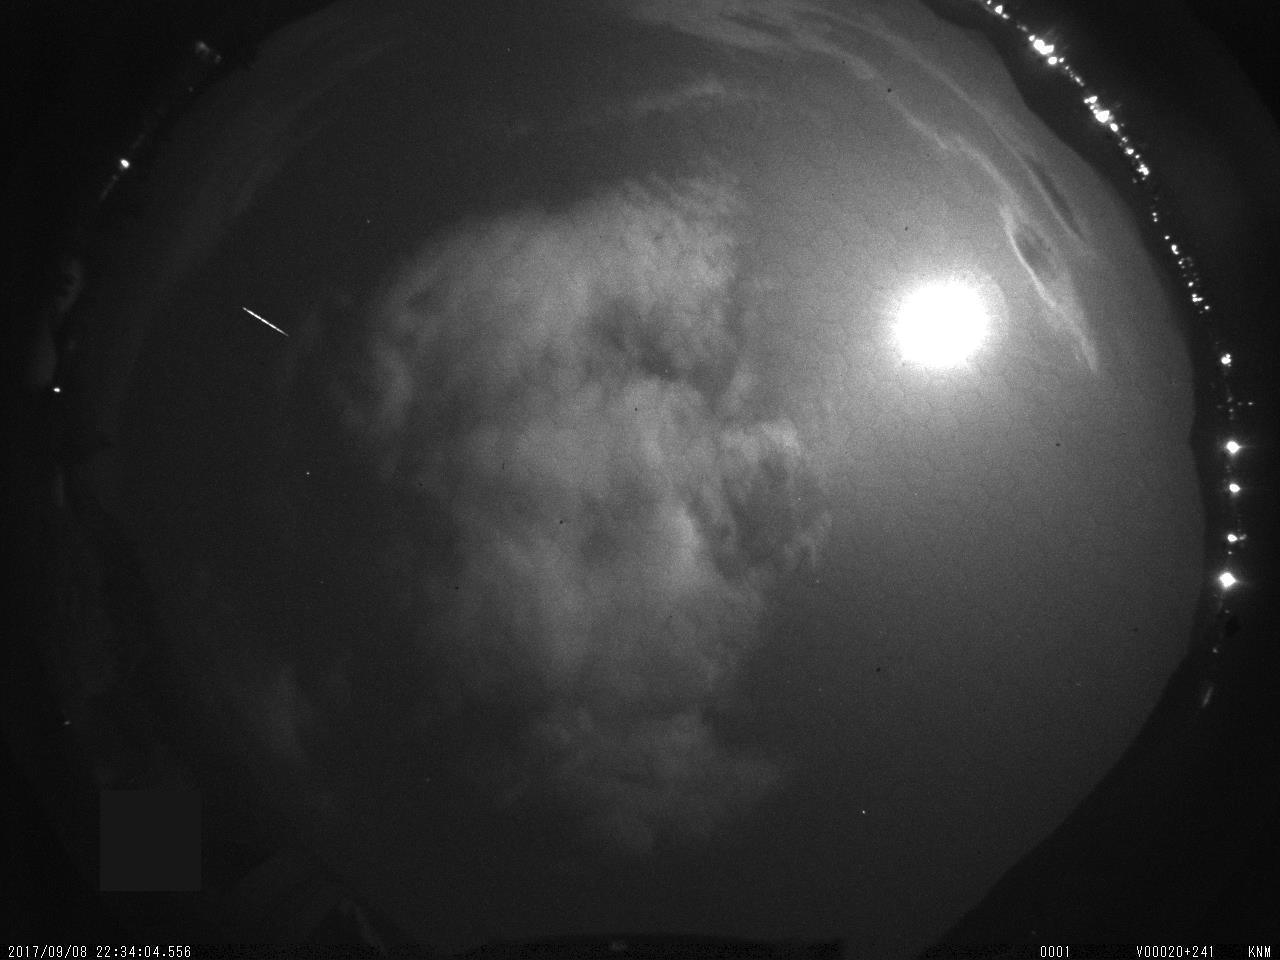Meteor: (240, 302, 290, 336)
